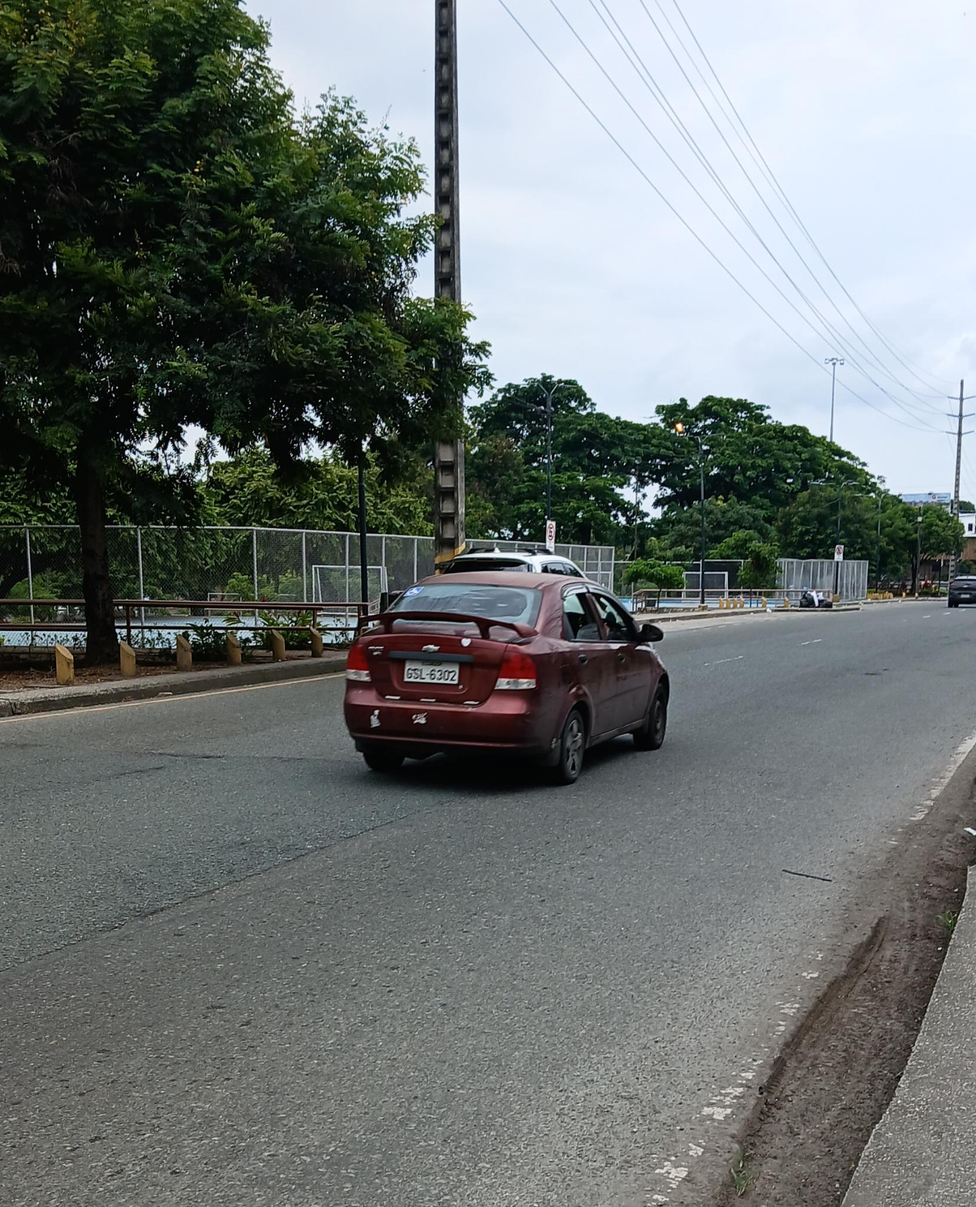license_plate: (402, 661, 459, 685), (961, 593, 970, 598)
